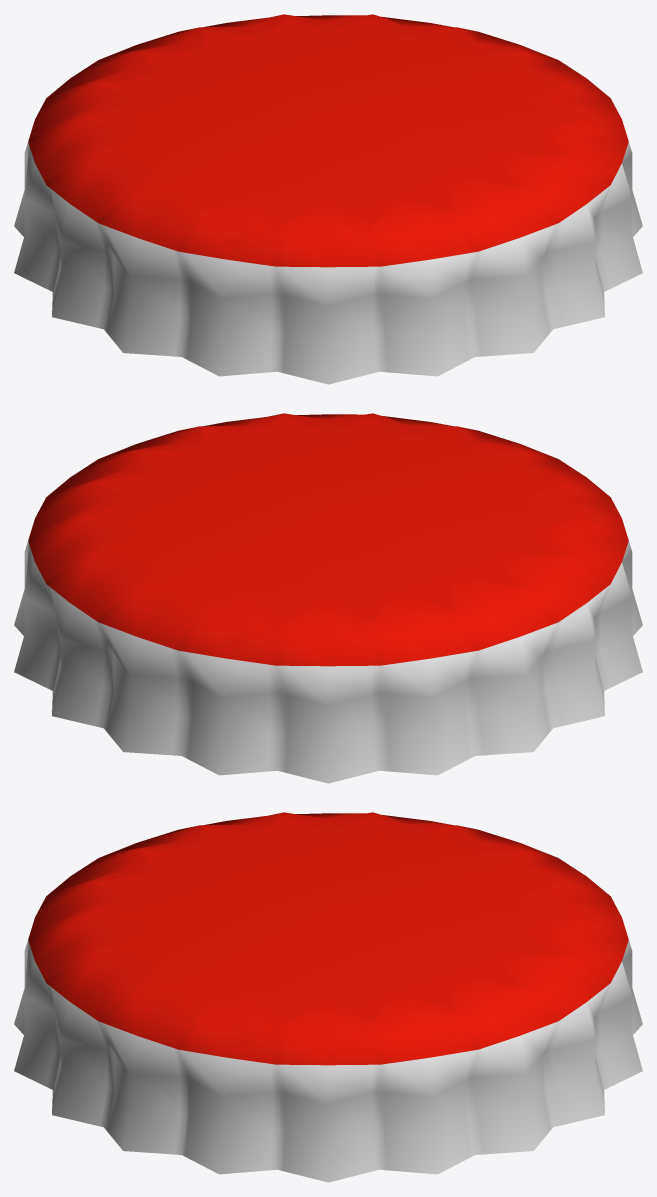
The model's file is SodaCork.fbx.
3 renders of one model, top to bottom at view 1: azimuth 30°, elevation 25°; view 2: azimuth 150°, elevation 25°; view 3: azimuth 270°, elevation 25°, orthographic.
Visible parts, largest first — view 1: SodaCork; view 2: SodaCork; view 3: SodaCork.
Boxes of the visible parts, left/top/right/bottom form: SodaCork: left=14, top=14, right=642, bottom=384; SodaCork: left=14, top=413, right=642, bottom=783; SodaCork: left=14, top=812, right=642, bottom=1182.
Size of the model in its own units: 41.45 by 10.37 by 40.82.
